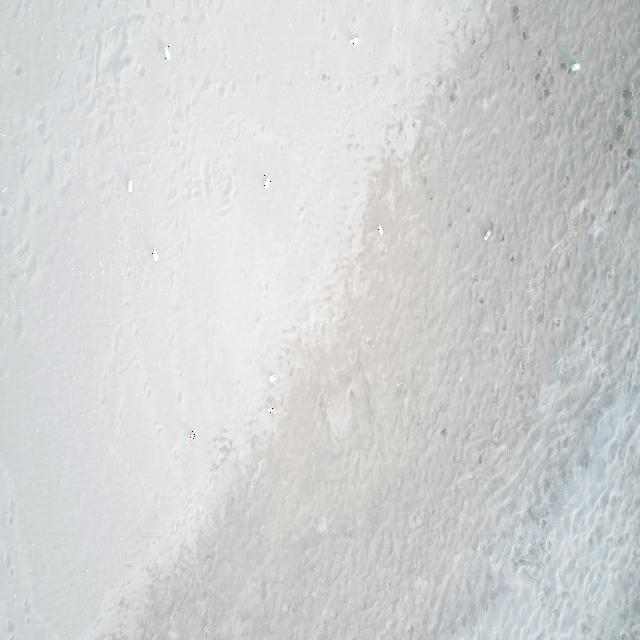tin-and-aluminum-cans: (162, 44, 170, 61), (263, 175, 272, 190), (152, 248, 159, 264), (570, 62, 580, 73), (188, 430, 196, 443), (128, 177, 134, 194), (350, 35, 359, 46), (484, 229, 492, 241), (268, 407, 277, 417), (269, 374, 277, 384), (378, 222, 384, 235)
